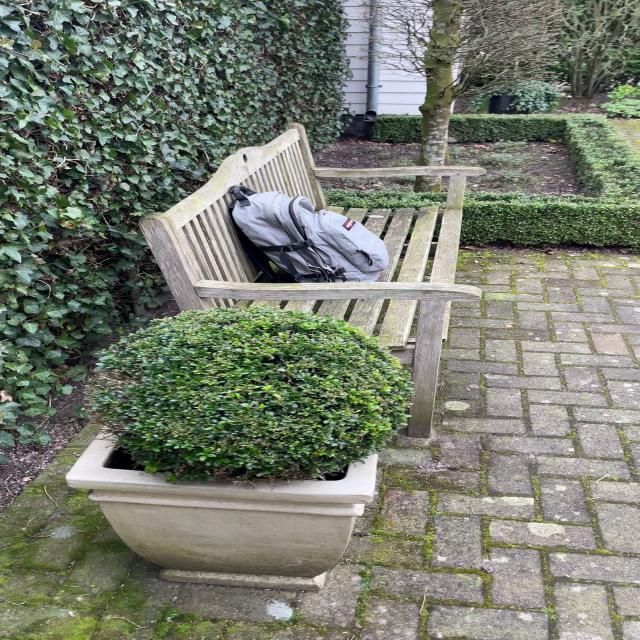backpack: (220, 184, 396, 285)
